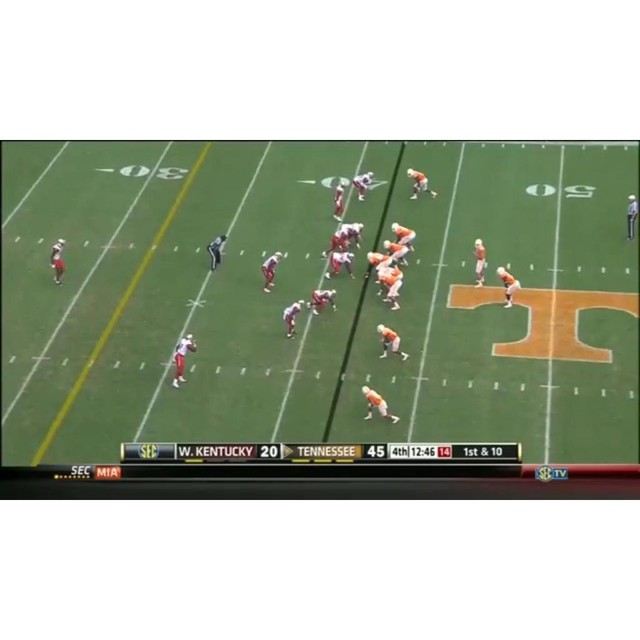american-football-player: (321, 223, 362, 259), (171, 334, 198, 388), (361, 385, 400, 422), (376, 324, 410, 361), (376, 268, 404, 311), (407, 168, 439, 201), (496, 266, 521, 308), (261, 251, 285, 293), (363, 250, 394, 280), (325, 252, 357, 281), (283, 299, 306, 338), (49, 238, 67, 286), (391, 222, 417, 252), (308, 289, 337, 315), (472, 238, 487, 287), (383, 239, 409, 267), (332, 179, 348, 221), (352, 171, 374, 201)
referee: (207, 234, 229, 273), (624, 194, 640, 242)
